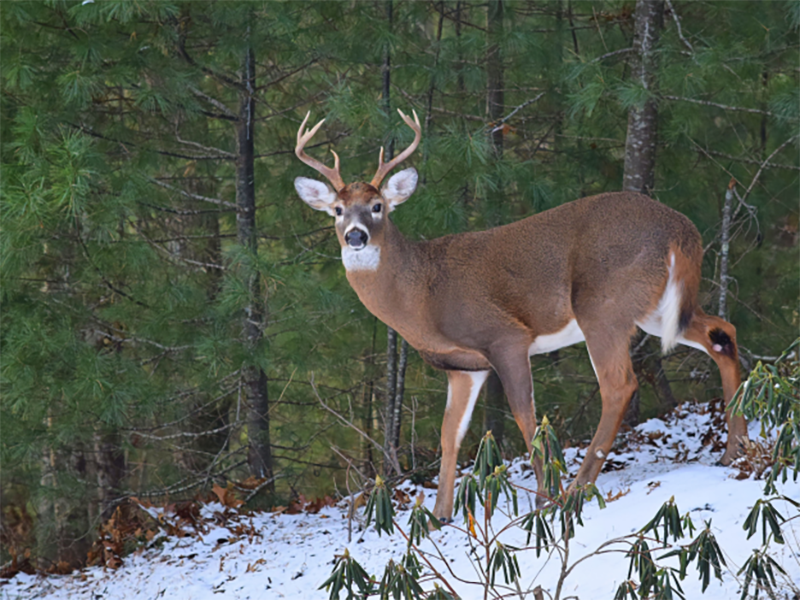cervo: (283, 101, 746, 515)
